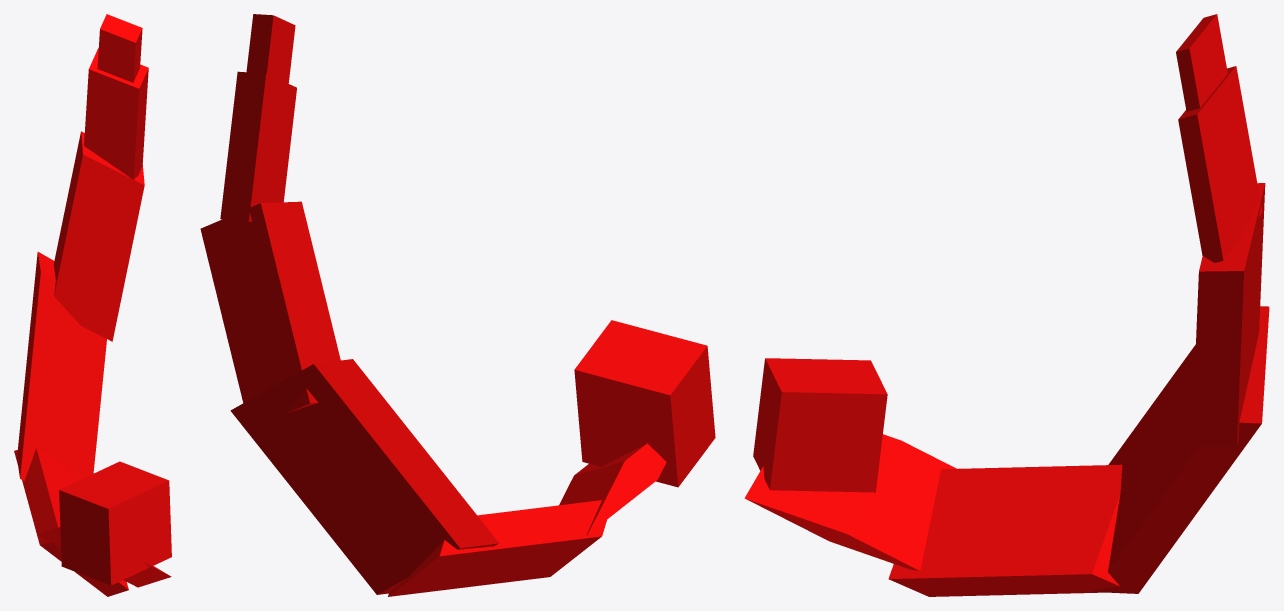
File: nashirorinkaku.obj
The picture shows the model from 3 angles, left to right: view 1: azimuth 30°, elevation 25°; view 2: azimuth 150°, elevation 25°; view 3: azimuth 270°, elevation 25°; orthographic projection. The views are drawn at different scales.
Visible parts, largest first — view 1: Kaneki_Kagune__2_Cube_41, Kaneki_Kagune__2_Cube_52, Kaneki_Kagune___Cube, Kaneki_Kagune__2_Cube_61, Kaneki_Kagune__2_Cube_31, Kaneki_Kagune__2_Cube_71, Kaneki_Kagune__2_Cube_22; view 2: Kaneki_Kagune__2_Cube_41, Kaneki_Kagune__2_Cube_52, Kaneki_Kagune___Cube, Kaneki_Kagune__2_Cube_31, Kaneki_Kagune__2_Cube_61, Kaneki_Kagune__2_Cube_22, Kaneki_Kagune__2_Cube_71; view 3: Kaneki_Kagune__2_Cube_31, Kaneki_Kagune__2_Cube_41, Kaneki_Kagune___Cube, Kaneki_Kagune__2_Cube_22, Kaneki_Kagune__2_Cube_52, Kaneki_Kagune__2_Cube_61, Kaneki_Kagune__2_Cube_71.
Boxes of the visible parts, x1=… form: Kaneki_Kagune__2_Cube_41: x1=17, y1=252, x2=106, y2=481; Kaneki_Kagune__2_Cube_52: x1=53, y1=131, x2=144, y2=341; Kaneki_Kagune___Cube: x1=59, y1=461, x2=171, y2=585; Kaneki_Kagune__2_Cube_61: x1=84, y1=48, x2=148, y2=179; Kaneki_Kagune__2_Cube_31: x1=14, y1=448, x2=128, y2=596; Kaneki_Kagune__2_Cube_71: x1=97, y1=14, x2=142, y2=82; Kaneki_Kagune__2_Cube_22: x1=37, y1=527, x2=171, y2=587; Kaneki_Kagune__2_Cube_41: x1=230, y1=359, x2=499, y2=594; Kaneki_Kagune__2_Cube_52: x1=200, y1=201, x2=340, y2=413; Kaneki_Kagune___Cube: x1=574, y1=320, x2=715, y2=487; Kaneki_Kagune__2_Cube_31: x1=388, y1=500, x2=606, y2=596; Kaneki_Kagune__2_Cube_61: x1=220, y1=71, x2=296, y2=221; Kaneki_Kagune__2_Cube_22: x1=559, y1=443, x2=666, y2=534; Kaneki_Kagune__2_Cube_71: x1=246, y1=14, x2=295, y2=83; Kaneki_Kagune__2_Cube_31: x1=888, y1=464, x2=1122, y2=596; Kaneki_Kagune__2_Cube_41: x1=1093, y1=306, x2=1269, y2=593; Kaneki_Kagune___Cube: x1=753, y1=358, x2=887, y2=492; Kaneki_Kagune__2_Cube_22: x1=744, y1=434, x2=956, y2=570; Kaneki_Kagune__2_Cube_52: x1=1191, y1=183, x2=1265, y2=446; Kaneki_Kagune__2_Cube_61: x1=1178, y1=66, x2=1262, y2=262; Kaneki_Kagune__2_Cube_71: x1=1176, y1=14, x2=1227, y2=111.
Bounding box in the file's own units: 1.14 × 2.34 × 1.71.
